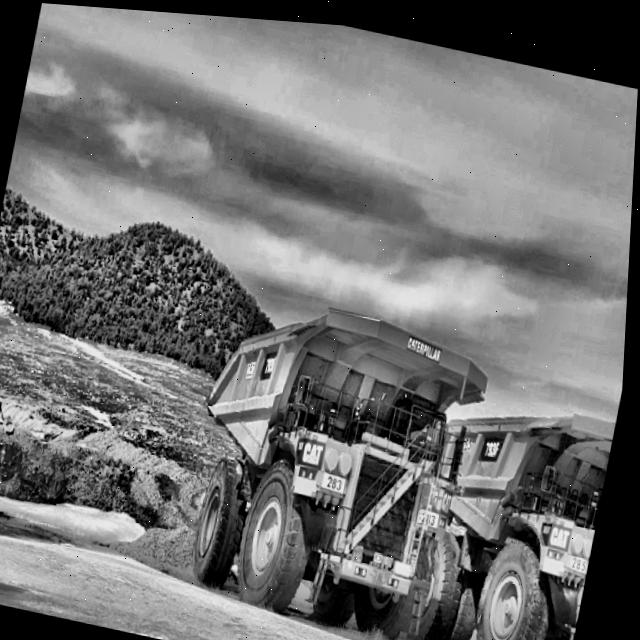dump_truck: (141, 249, 497, 640), (437, 362, 624, 640)
